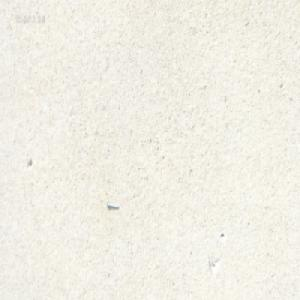Nail: (106, 201, 121, 211)
